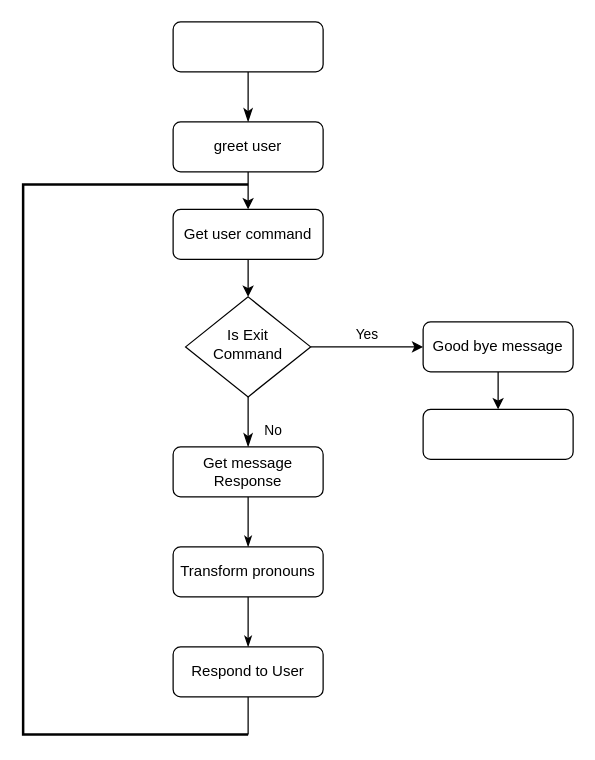
Image size: 595x760. Some labels were removed from this diagram. Each missing label, with the centre of its shape:
"Exit" goes at point (497, 433).
"start" goes at point (247, 46).
"while true" goes at point (135, 458).
